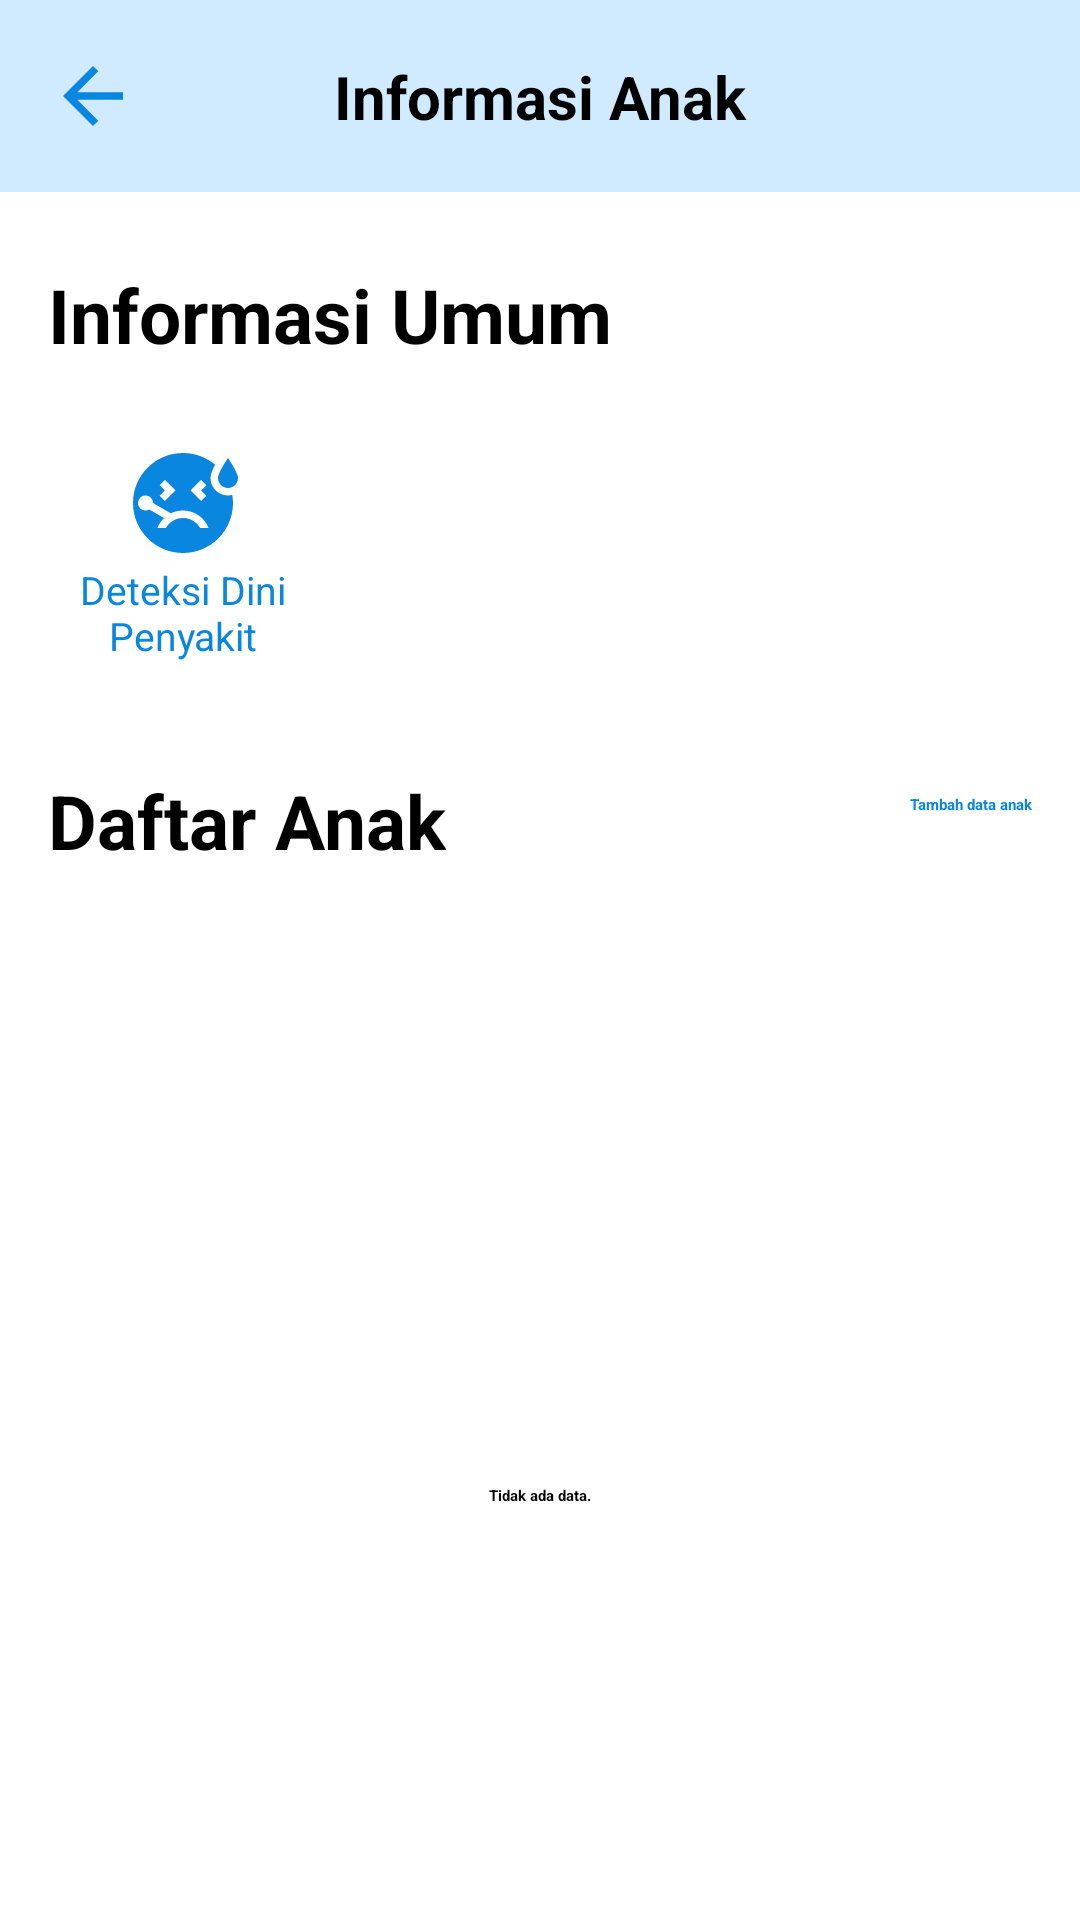

Named icons in this screenshot (1080*1920) and their bounding boxes, (x1, y1, x2, y2):
arrow back: (63, 66, 123, 126)
sick: (133, 453, 238, 553)
